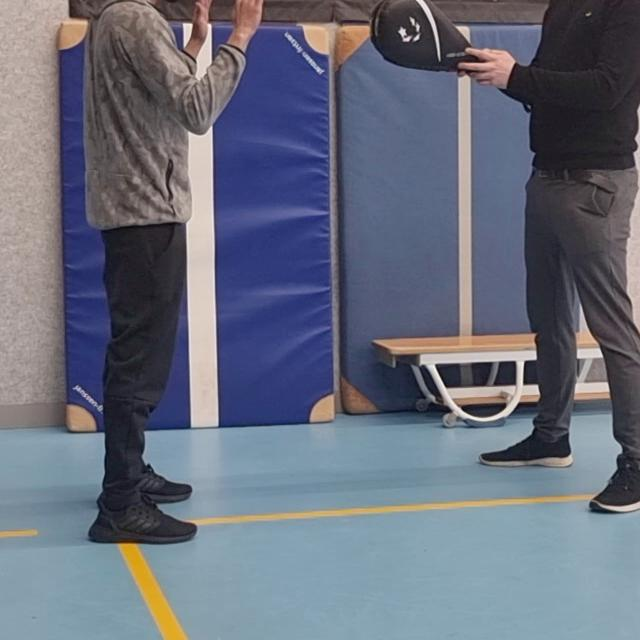paddle: (370, 0, 484, 77)
